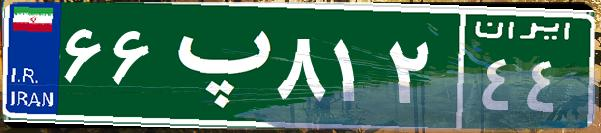1: (330, 28, 385, 110)
2: (385, 28, 445, 110)
4: (475, 38, 525, 113), (525, 38, 570, 115)
6: (57, 26, 110, 107), (110, 28, 158, 105)
8: (273, 28, 330, 110)
پ: (158, 15, 273, 115)
